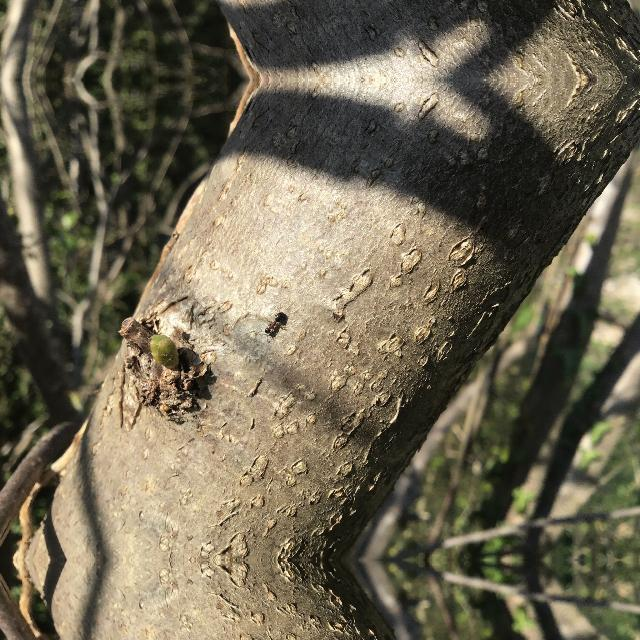Dolichoderus: (256, 306, 298, 342)
